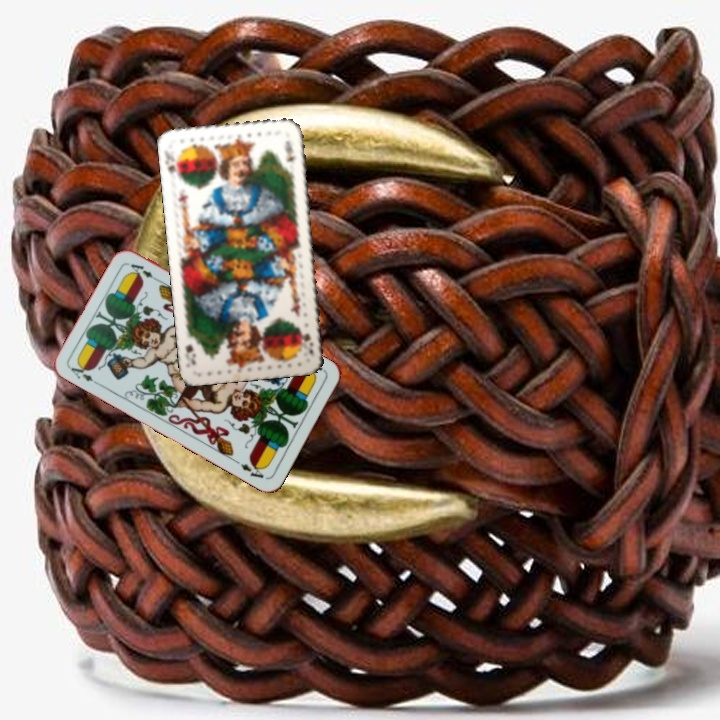EA: (67, 359, 104, 388)
SK: (161, 146, 183, 182), (300, 330, 317, 358)
